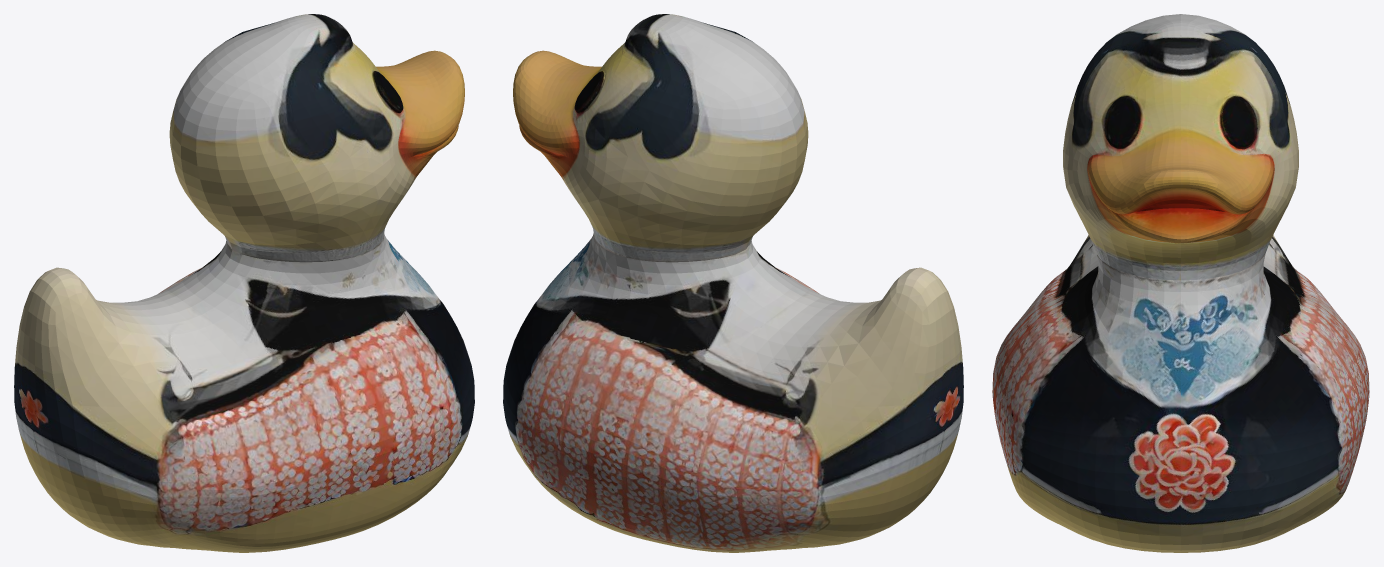
File: geisha.glb
3 views of the same model, side by side, from view 1: azimuth 30°, elevation 25°; view 2: azimuth 150°, elevation 25°; view 3: azimuth 270°, elevation 25° (orthographic). The views are drawn at different scales.
Visible parts, largest first — view 1: mvadapter_node_textured_official_model_1; view 2: mvadapter_node_textured_official_model_1; view 3: mvadapter_node_textured_official_model_1.
Part boxes in pixels (x1,y1,x2,y2): mvadapter_node_textured_official_model_1: [14, 14, 474, 552]; mvadapter_node_textured_official_model_1: [503, 14, 963, 552]; mvadapter_node_textured_official_model_1: [992, 14, 1369, 552].
Size of the model in its own units: 101 by 104 by 74.23.
Materials: 1 (1 with a texture image).
